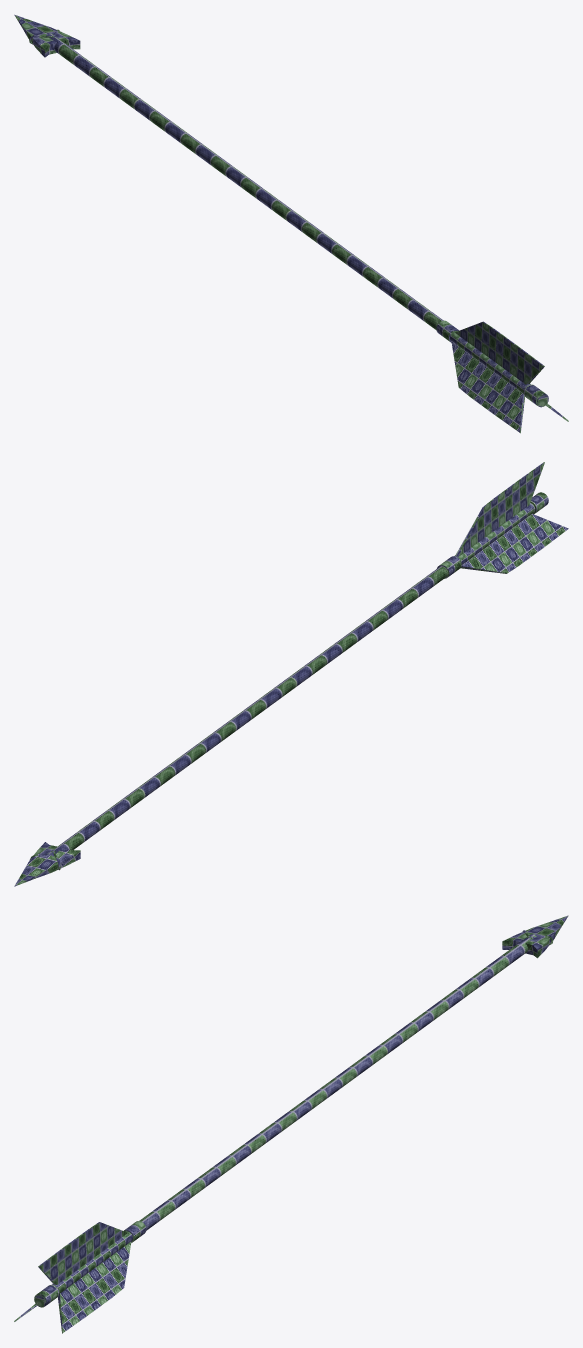
The model's file is M_StoneArrow.FBX.
3 views of the same model, one above another, from view 1: azimuth 30°, elevation 25°; view 2: azimuth 150°, elevation 25°; view 3: azimuth 330°, elevation 25° (orthographic).
Visible parts, largest first — view 1: M_StoneArrow; view 2: M_StoneArrow; view 3: M_StoneArrow.
Part boxes in pixels (x1,y1,x2,y2): M_StoneArrow: [14, 14, 568, 433]; M_StoneArrow: [14, 462, 568, 886]; M_StoneArrow: [14, 915, 568, 1333].
Bounding box in the file's own units: 0.041 × 0.049 × 0.7594.
1 material, 1 textured.
